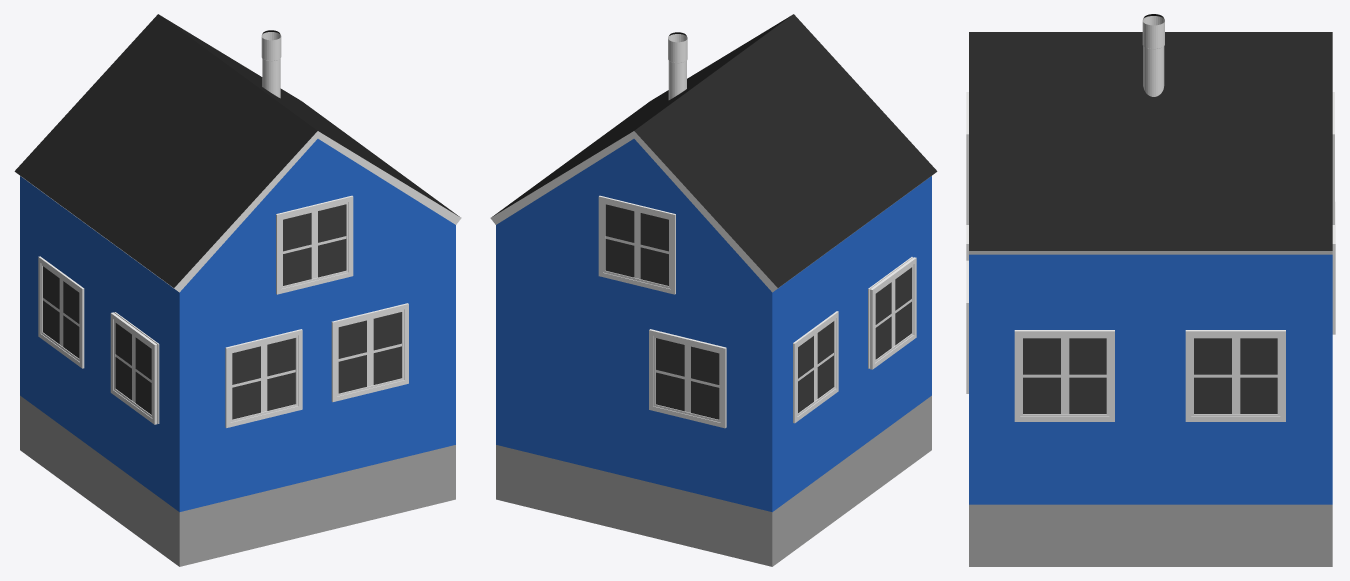
File: SmallHouse_Blue.glb
3 renders of one model, left to right at view 1: azimuth 30°, elevation 25°; view 2: azimuth 150°, elevation 25°; view 3: azimuth 270°, elevation 25°, orthographic. The views are drawn at different scales.
Visible parts, largest first — view 1: Cube, Cube.001, Cube.010, Cube.002, Cube.003, Cube.005; view 2: Cube, Cube.006, Cube.009, Cube.003, Cube.005; view 3: Cube, Cube.007, Cube.008, Cube.006.
Boxes of the visible parts, left/top/right/bottom form: Cube: left=14, top=14, right=461, bottom=566; Cube.001: left=225, top=329, right=302, bottom=427; Cube.010: left=331, top=303, right=408, bottom=401; Cube.002: left=276, top=195, right=353, bottom=294; Cube.003: left=110, top=312, right=157, bottom=424; Cube.005: left=38, top=256, right=84, bottom=368; Cube: left=490, top=14, right=937, bottom=566; Cube.006: left=649, top=329, right=726, bottom=428; Cube.009: left=598, top=195, right=675, bottom=294; Cube.003: left=870, top=257, right=916, bottom=369; Cube.005: left=793, top=311, right=838, bottom=423; Cube: left=969, top=14, right=1332, bottom=566; Cube.007: left=1014, top=330, right=1114, bottom=421; Cube.008: left=1185, top=330, right=1285, bottom=421; Cube.006: left=1332, top=201, right=1335, bottom=334.
Size of the model in its own units: 2.08 by 2.98 by 2.03.
